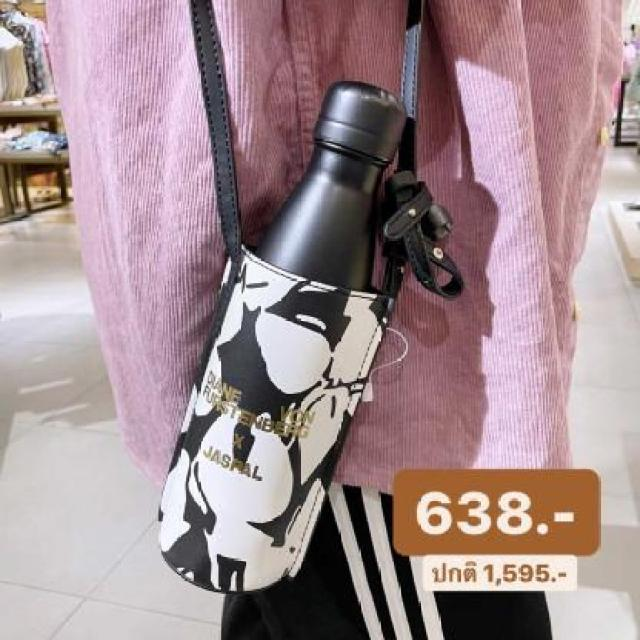Bag: (126, 201, 408, 633)
